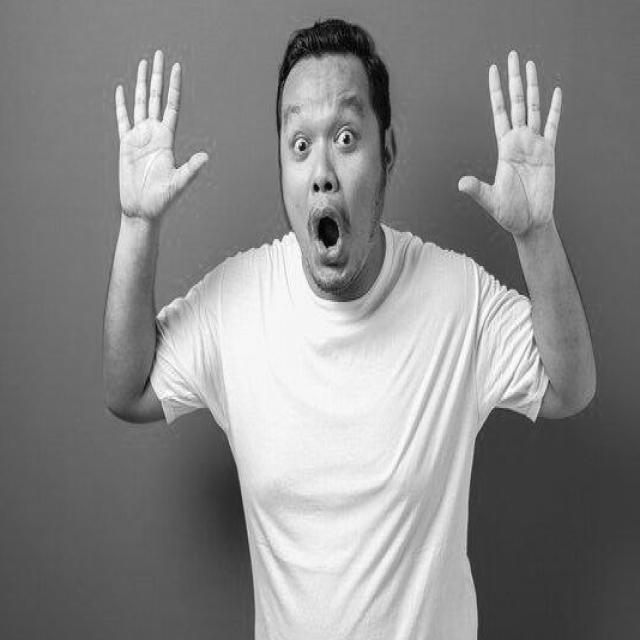stop: (454, 43, 566, 252), (110, 41, 213, 242)
